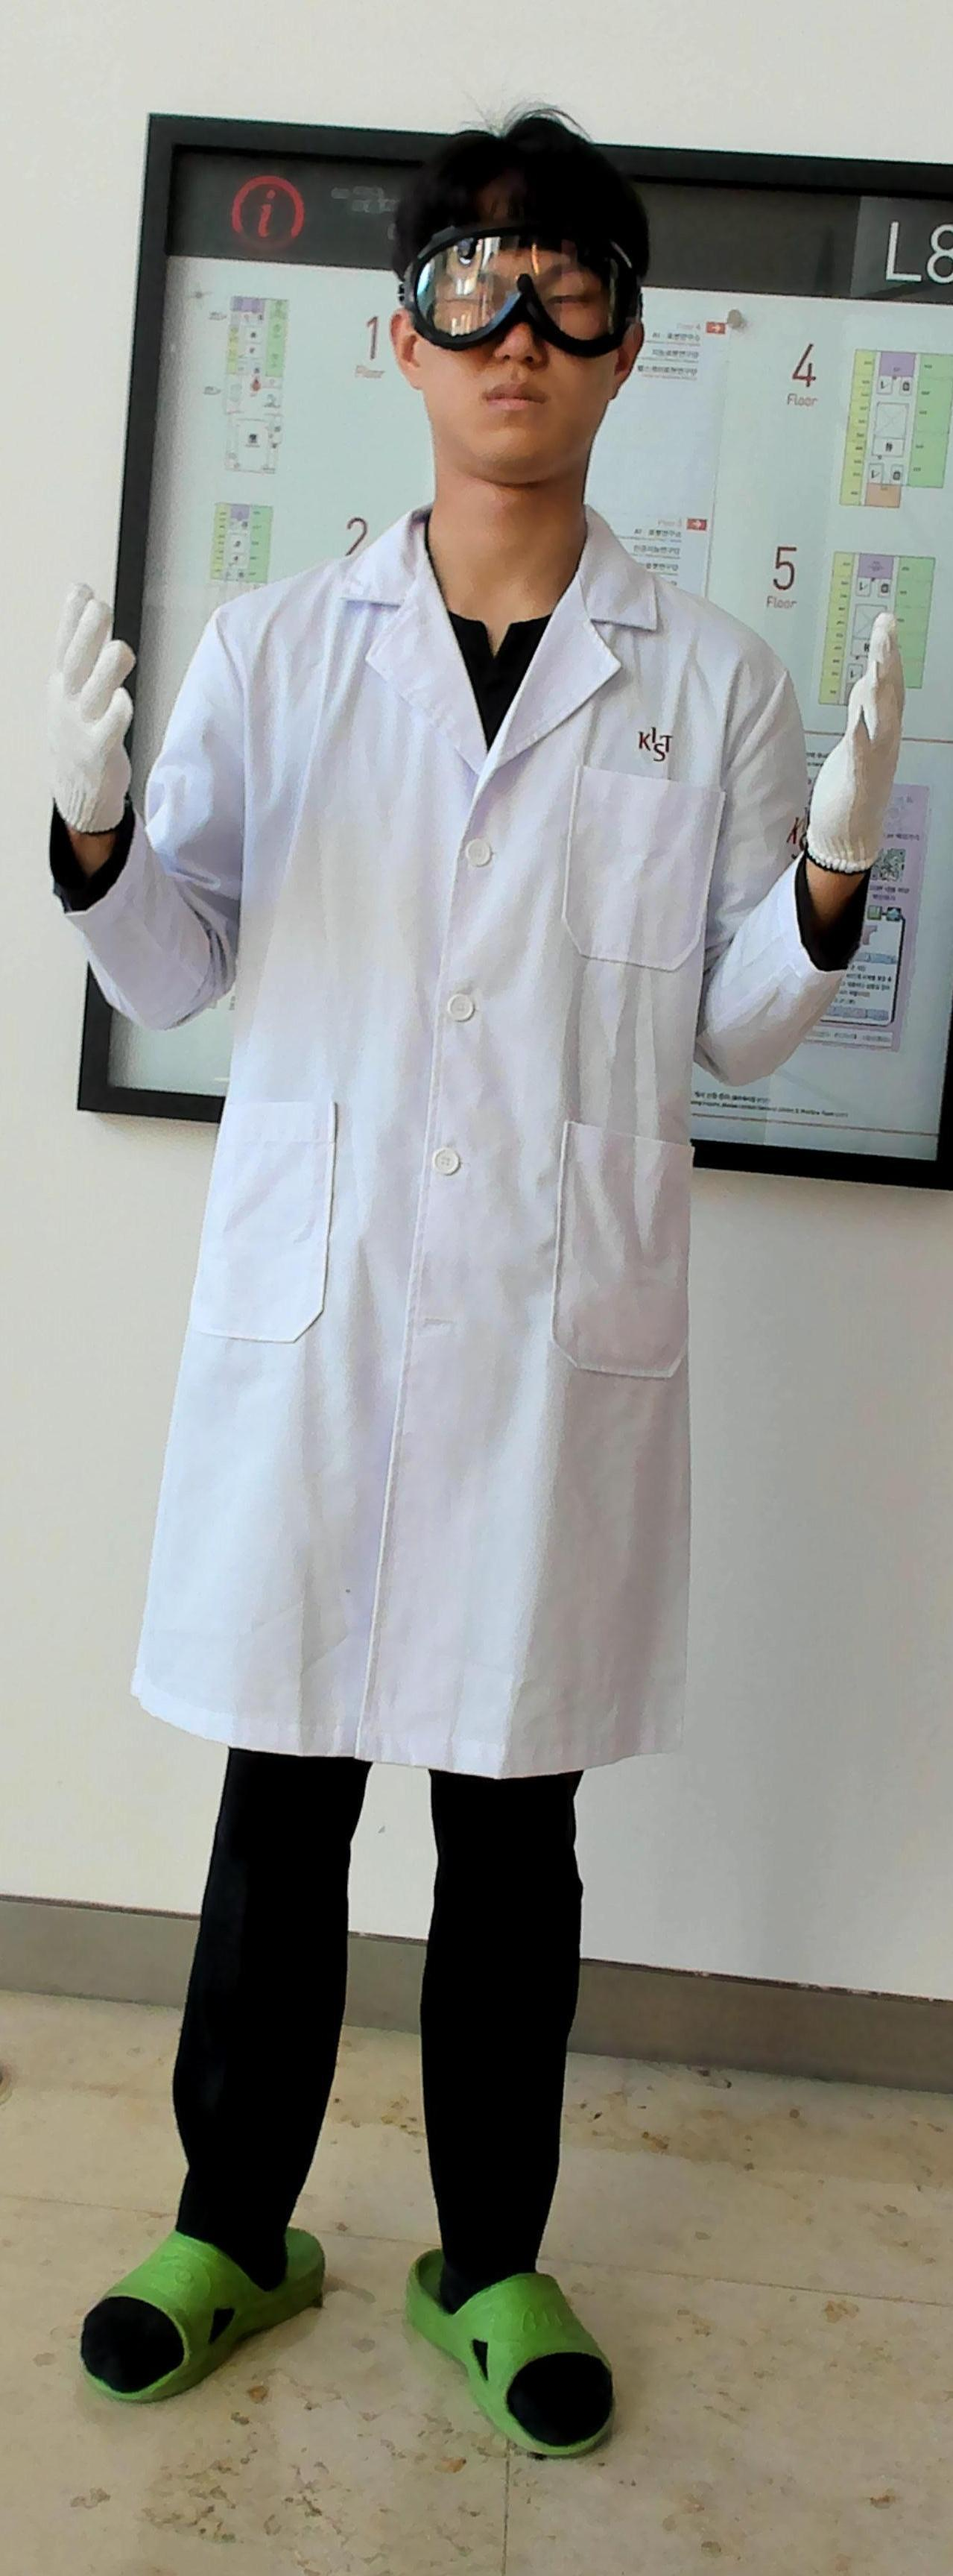lab_coat: (151, 619, 746, 1755)
